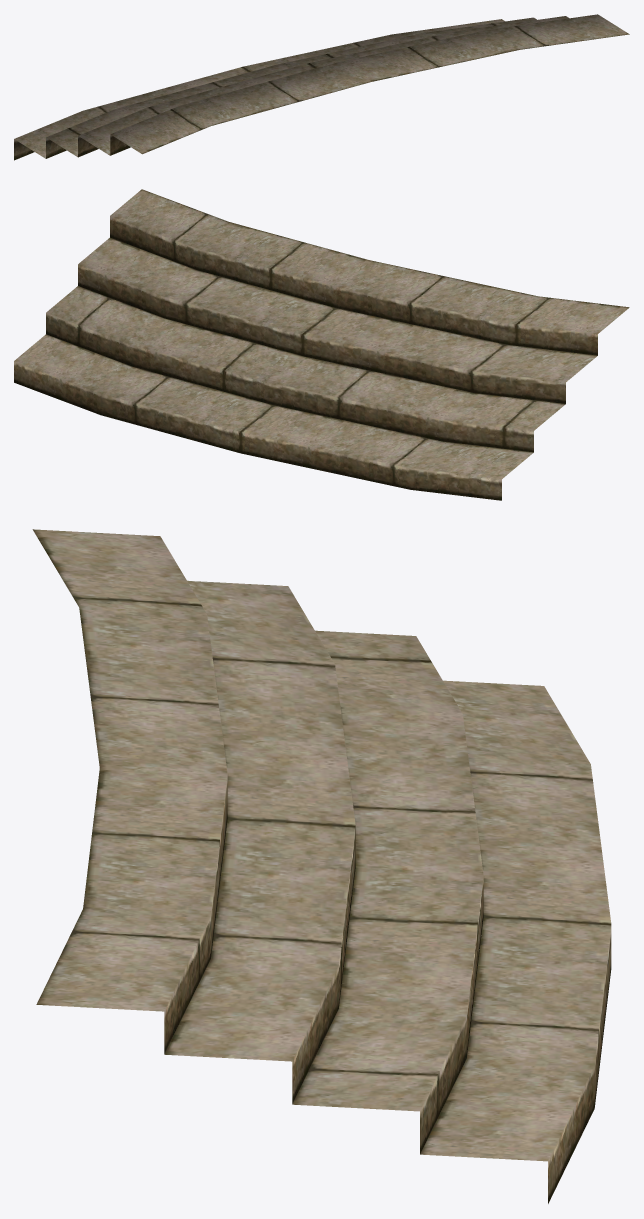
Rendered from EKH_ENTRANCE_PS_EN_LINE301.fbx.
The picture shows the model from 3 angles, top to bottom: view 1: azimuth 30°, elevation 25°; view 2: azimuth 150°, elevation 25°; view 3: azimuth 270°, elevation 25°; orthographic projection. The views are drawn at different scales.
Parts seen in each view (by area): view 1: EKH_ENTRANCE_PS_EN_LINE301; view 2: EKH_ENTRANCE_PS_EN_LINE301; view 3: EKH_ENTRANCE_PS_EN_LINE301.
Part boxes in pixels (x1,y1,x2,y2): EKH_ENTRANCE_PS_EN_LINE301: (14, 14, 629, 160); EKH_ENTRANCE_PS_EN_LINE301: (14, 189, 629, 500); EKH_ENTRANCE_PS_EN_LINE301: (32, 529, 611, 1203).
Size of the model in its own units: 65563 by 12845 by 33740.
1 material, 1 textured.
